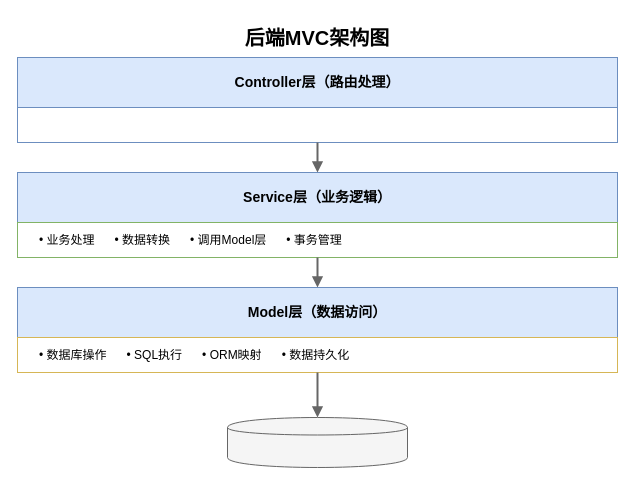
Some shapes in this 635 by 485 pixel diagram are drawn without their labels. Here are the shapes that lost their labels. From the top down, the centre of each, then its label:
At point (317, 124): "• 接收请求 • 参数校验 • 调用Service层 • 返回响应".
At point (317, 442): "MySQL / Redis".
